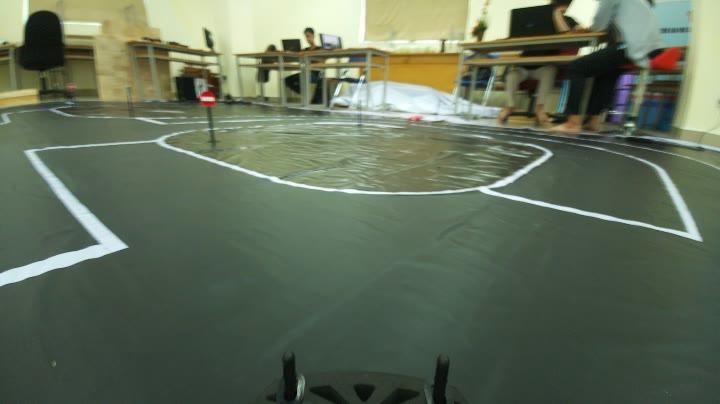no_entry: (196, 88, 224, 113)
